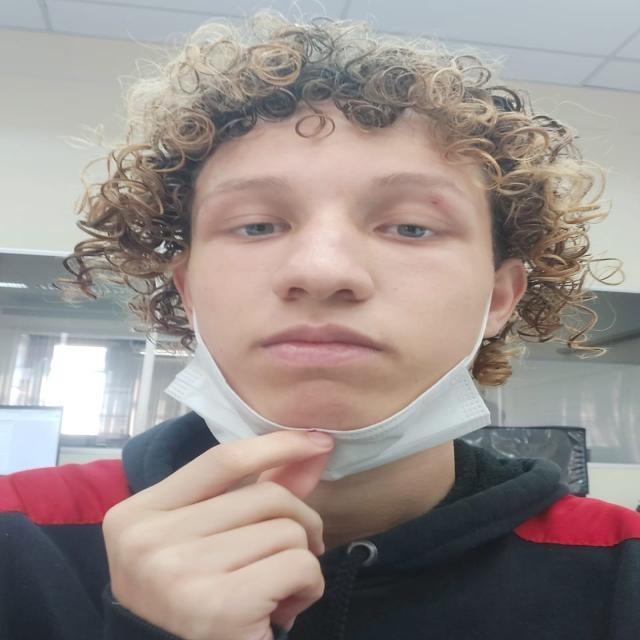hairnet: (175, 142, 486, 466)
